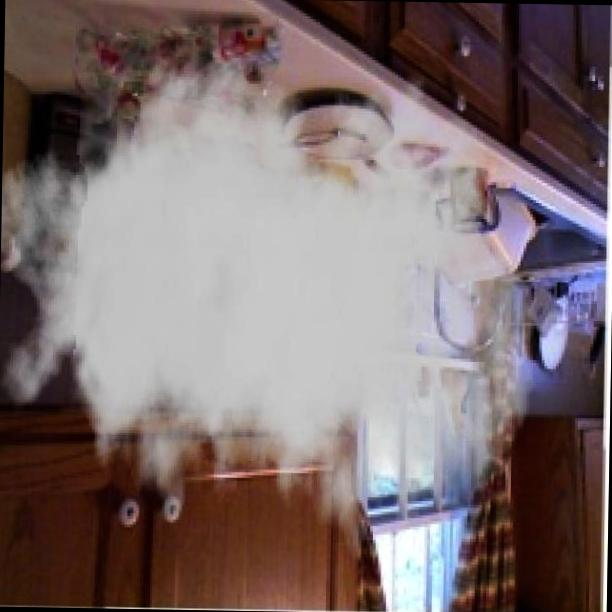smoke: (0, 25, 542, 589)
